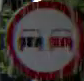No overtake: (6, 0, 83, 80)
